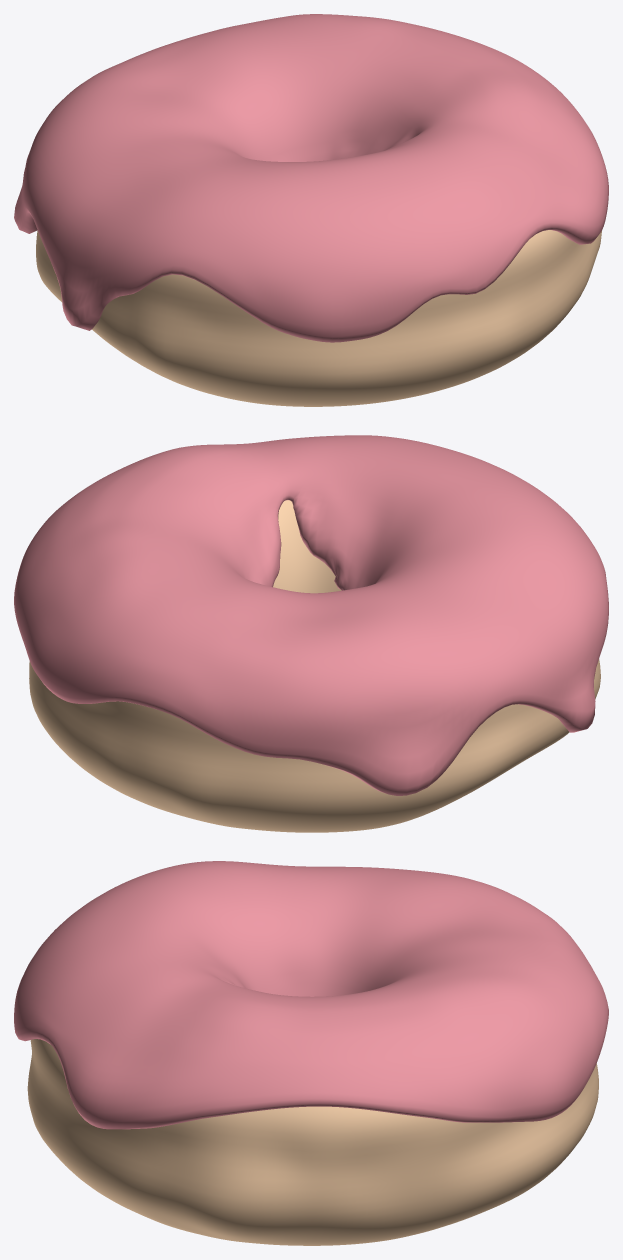
The model's file is donut.gltf.
3 views of the same model, one above another, from view 1: azimuth 30°, elevation 25°; view 2: azimuth 150°, elevation 25°; view 3: azimuth 270°, elevation 25° (orthographic). The views are drawn at different scales.
Visible parts, largest first — view 1: Icing, Donut; view 2: Icing, Donut; view 3: Icing, Donut.
Boxes of the visible parts, x1,y1,x2,y2 form: Icing: (14,14,608,342); Donut: (36,230,601,406); Icing: (14,435,608,795); Donut: (29,500,600,832); Icing: (14,861,608,1129); Donut: (27,1039,598,1245).
Size of the model in its own units: 0.0999 by 0.0426 by 0.0994.
